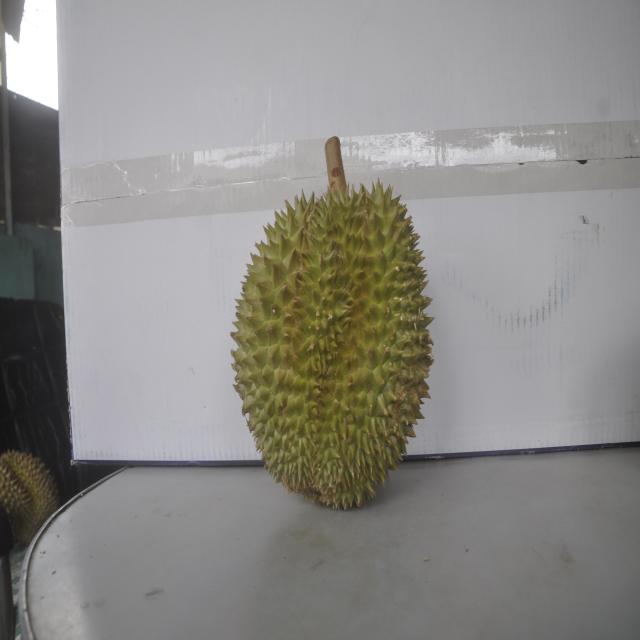mature: (230, 161, 432, 509), (0, 449, 60, 544)
